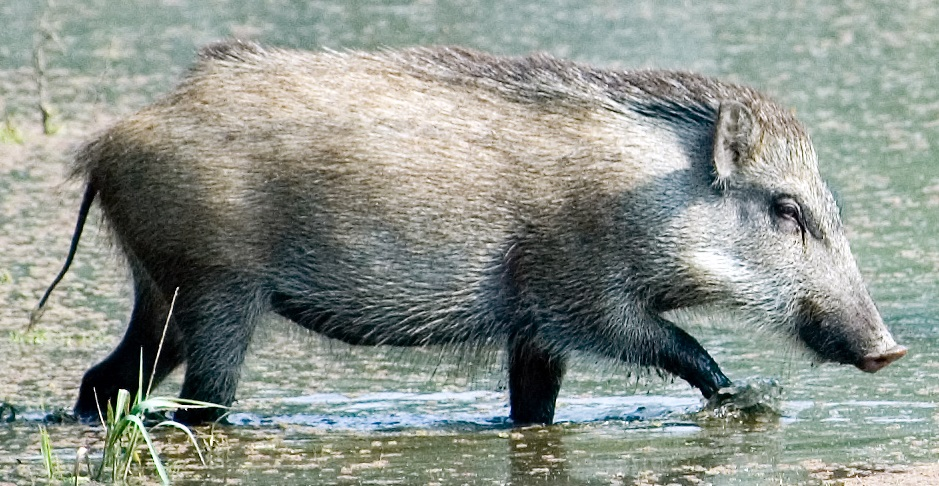boar: (28, 26, 918, 433)
